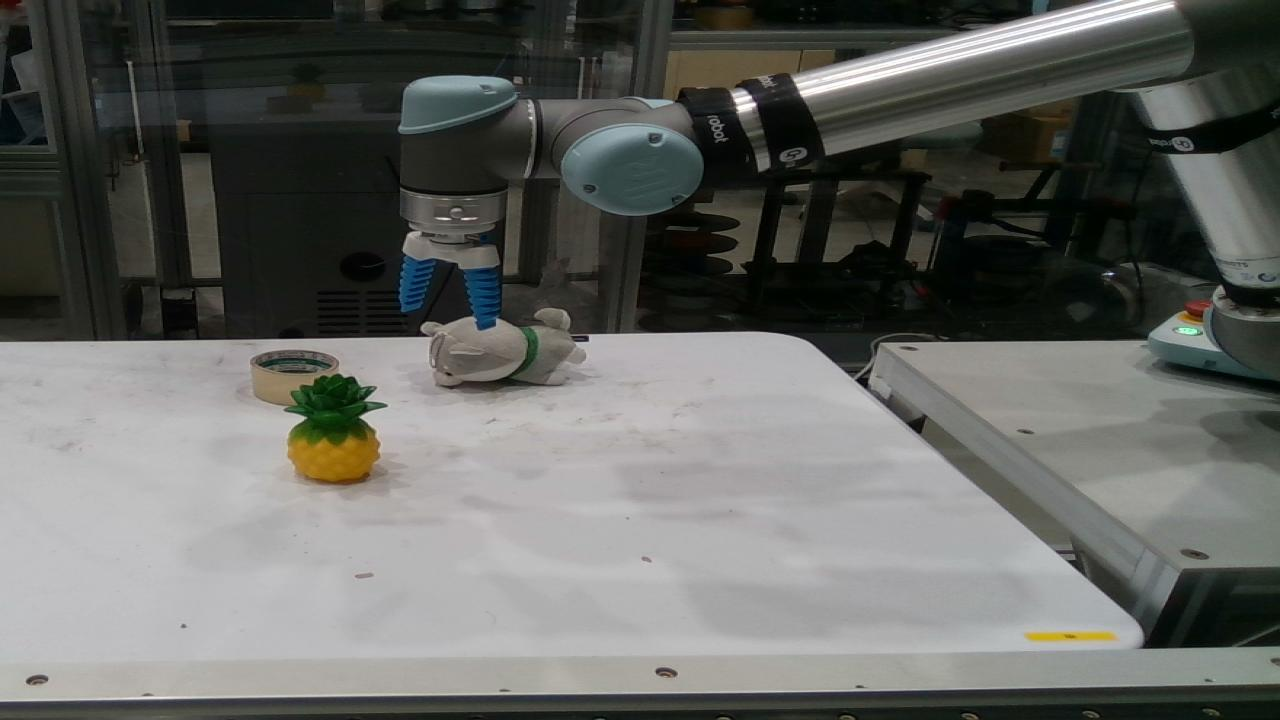UR5: (400, 0, 1279, 380)
gripper_left: (400, 256, 436, 313)
gripper_right: (463, 267, 499, 330)
target: (421, 308, 587, 388), (283, 373, 390, 482), (250, 349, 340, 405)
